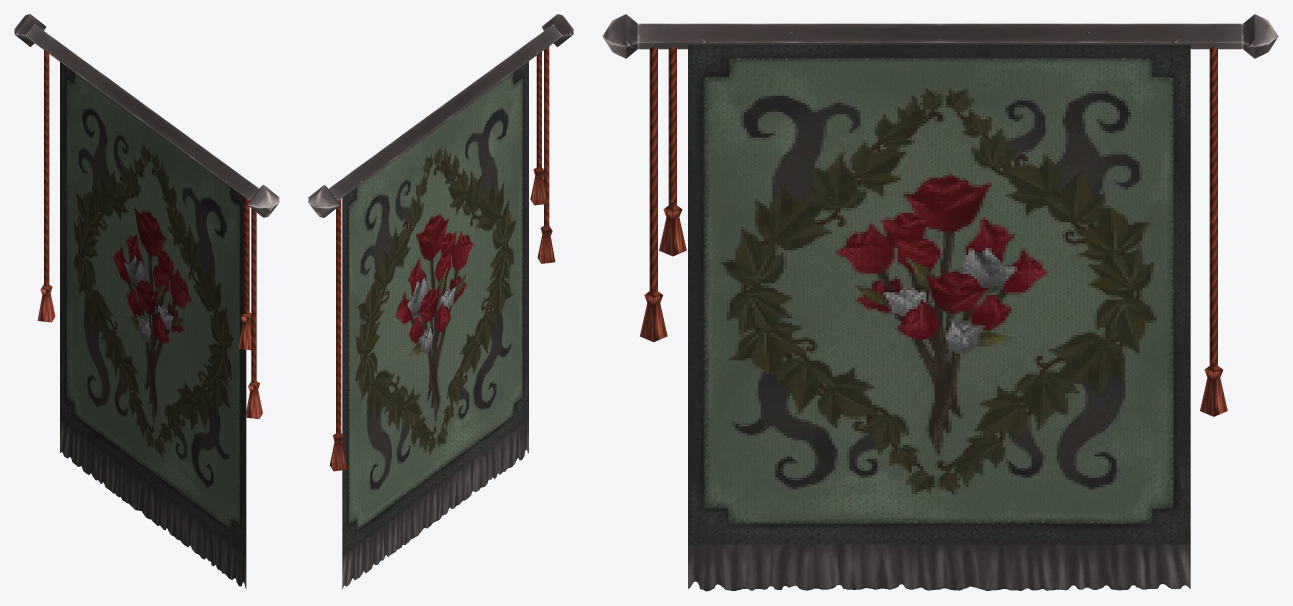
3 renders of one model, left to right at view 1: azimuth 30°, elevation 25°; view 2: azimuth 150°, elevation 25°; view 3: azimuth 270°, elevation 25°, orthographic. The views are drawn at different scales.
Size of the model in its own units: 0.1872 by 2.39 by 2.55.
Materials: 1 (1 with a texture image).
